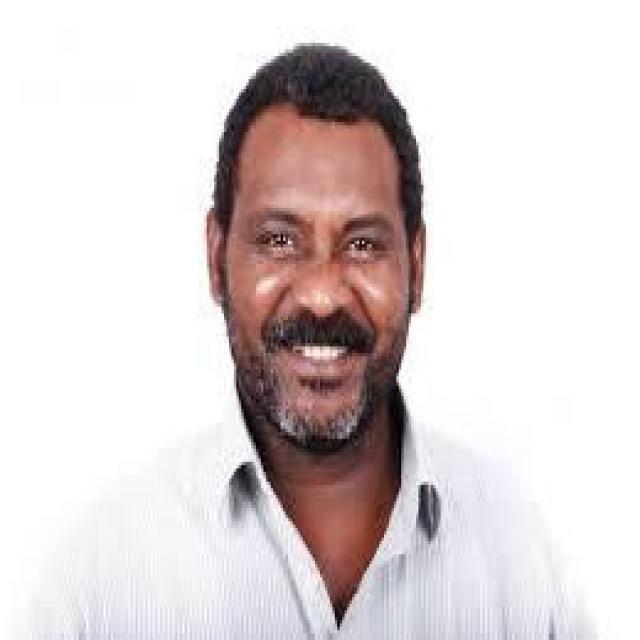person: (71, 36, 588, 637)
